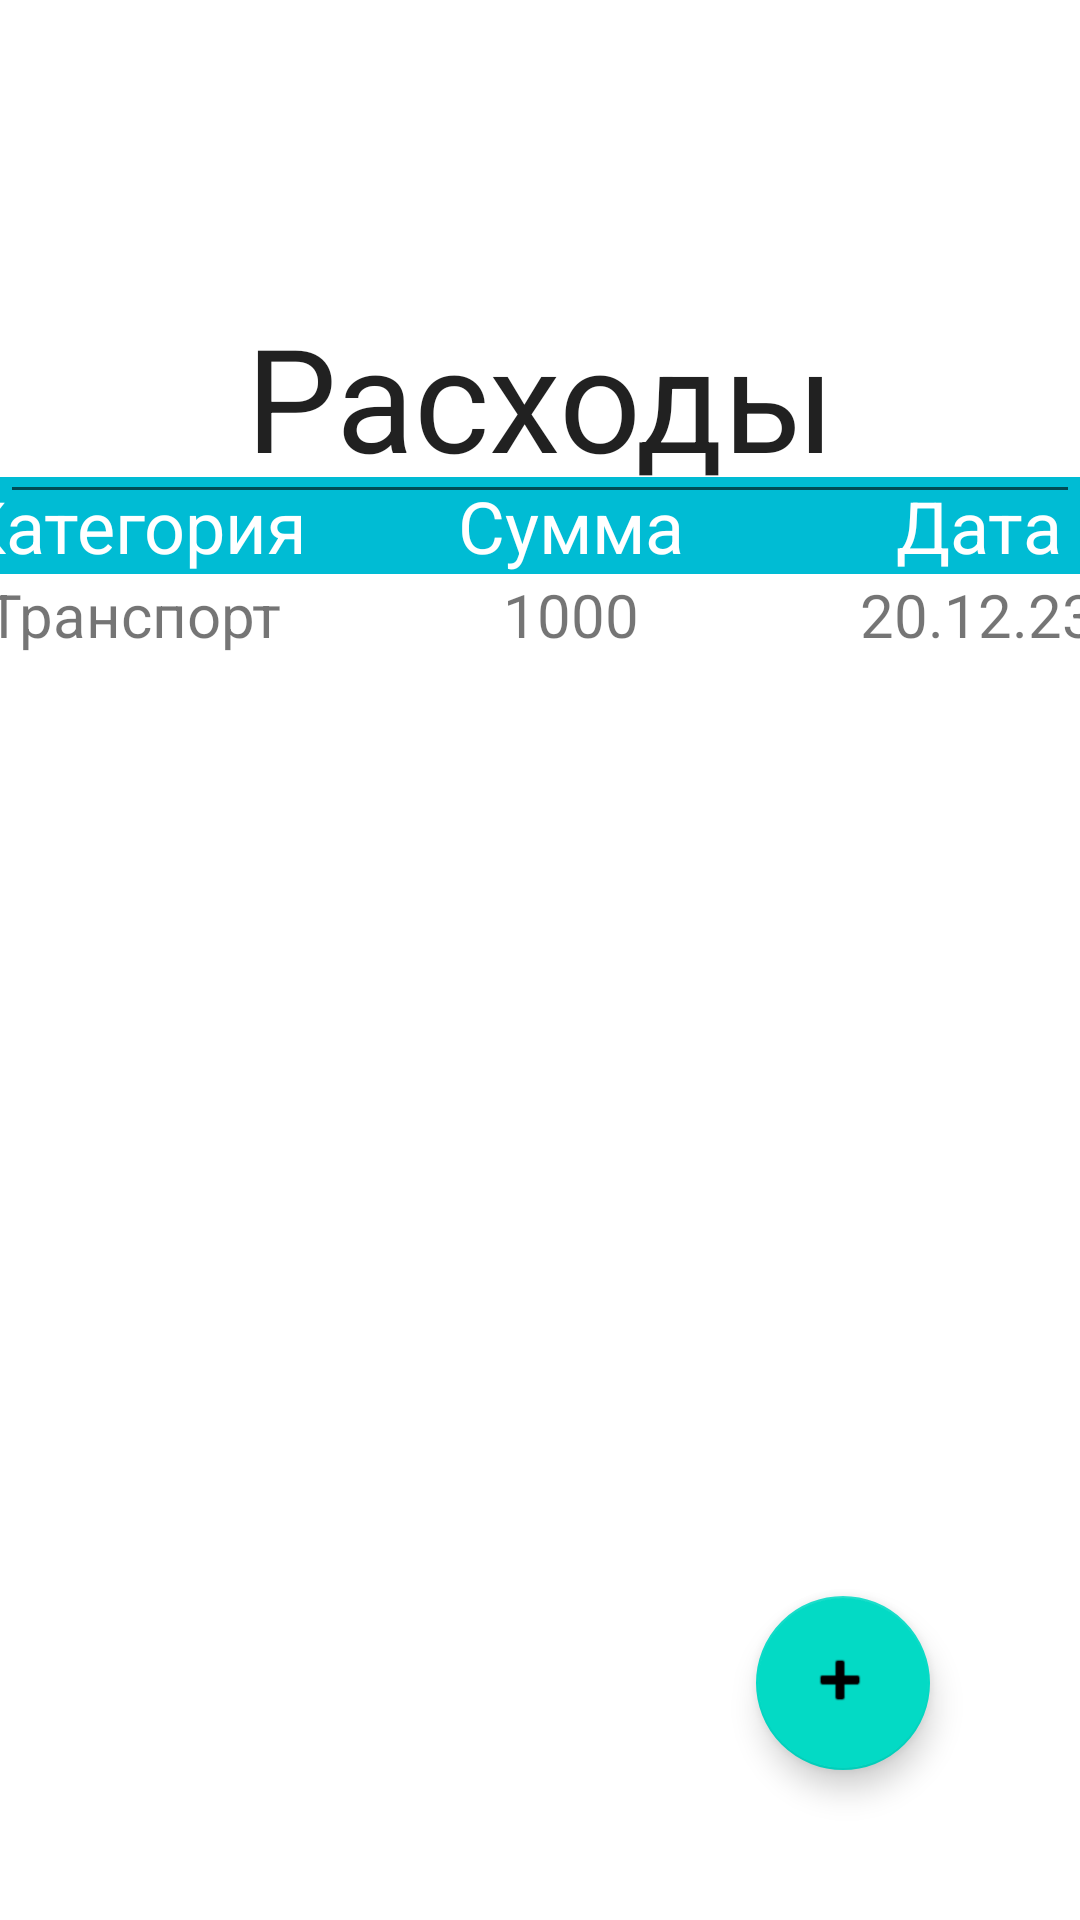

Icon click points for this 1080w x 1920h phone screenshot, format (x=x, y=y):
add: (x=843, y=1683)
